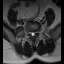CCS_stenosis: (32, 30, 33, 37)
LFS_stenosis: (35, 30, 37, 34)
LLS_normal: (33, 30, 35, 36)
RFS_normal: (28, 30, 30, 35)
RLS_normal: (30, 30, 32, 36)
